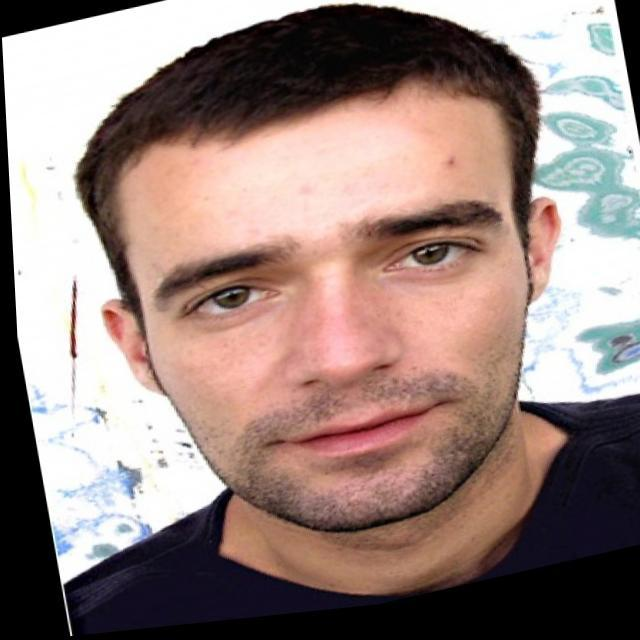Nonhelmet: (71, 7, 574, 539)
